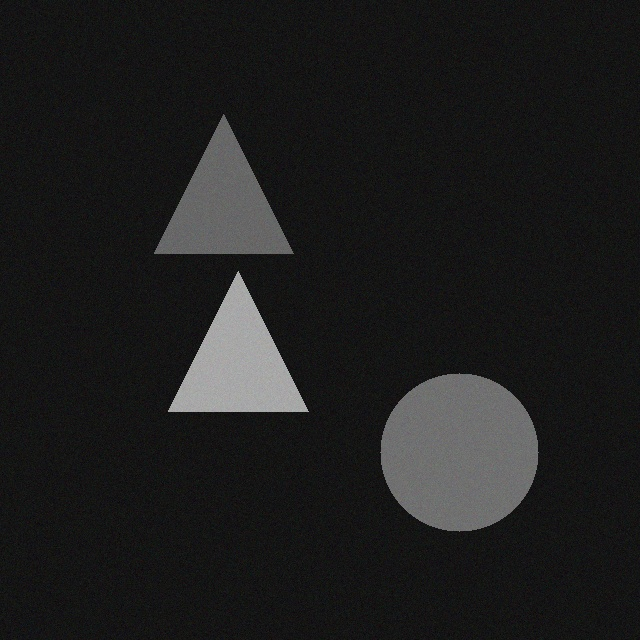circle: (371, 368, 529, 526)
triangle: (159, 266, 299, 406), (145, 109, 284, 248)
